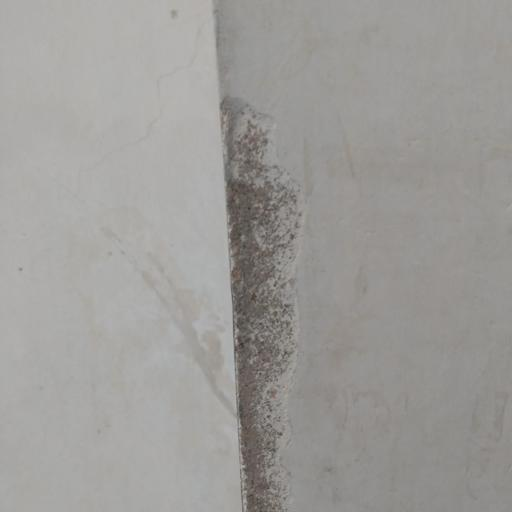spalling: (211, 93, 292, 512)
